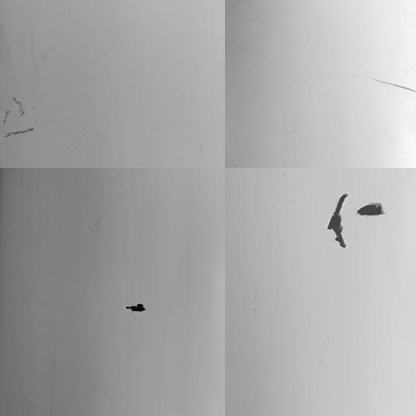kongdong: (326, 191, 347, 249), (358, 201, 383, 219), (123, 299, 149, 316)
